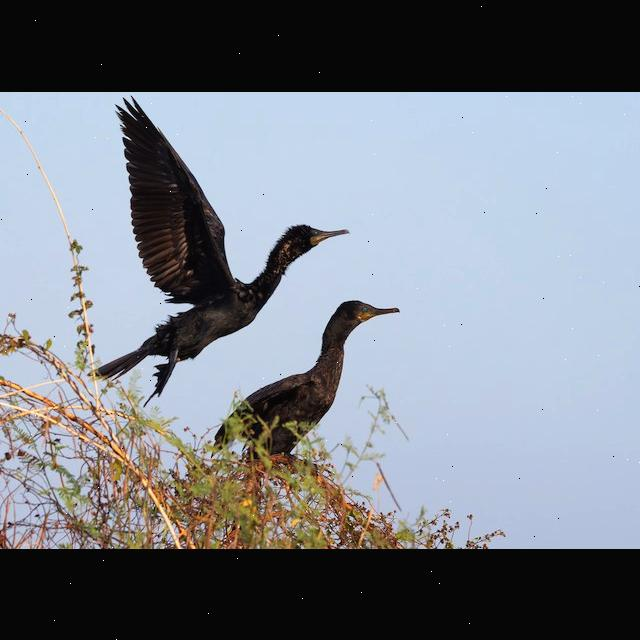cormorant: (81, 95, 351, 423), (208, 296, 414, 490)
